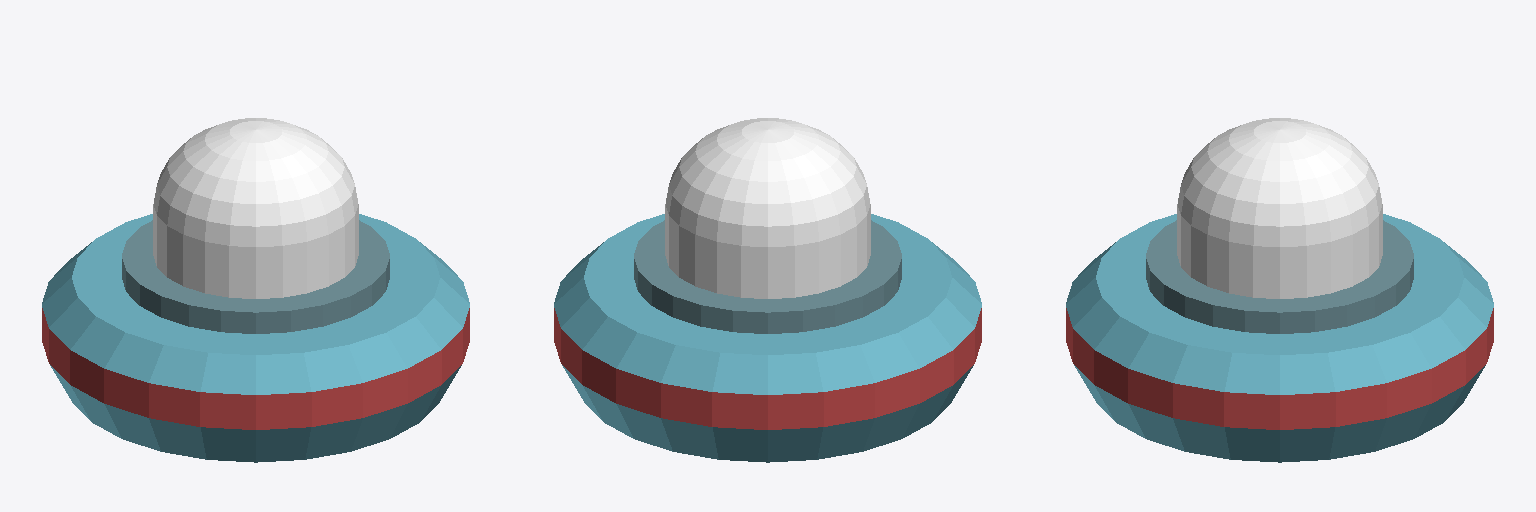
File: EnemyRed.obj
The picture shows the model from 3 angles: view 1: azimuth 30°, elevation 25°; view 2: azimuth 150°, elevation 25°; view 3: azimuth 270°, elevation 25°; orthographic projection.
Parts seen in each view (by area): view 1: enemy_ufoRed; view 2: enemy_ufoRed; view 3: enemy_ufoRed.
Boxes of the visible parts, x1=… form: enemy_ufoRed: x1=42, y1=118, x2=469, y2=462; enemy_ufoRed: x1=554, y1=118, x2=981, y2=462; enemy_ufoRed: x1=1066, y1=118, x2=1493, y2=462.
Size of the model in its own units: 1 by 0.6505 by 1.